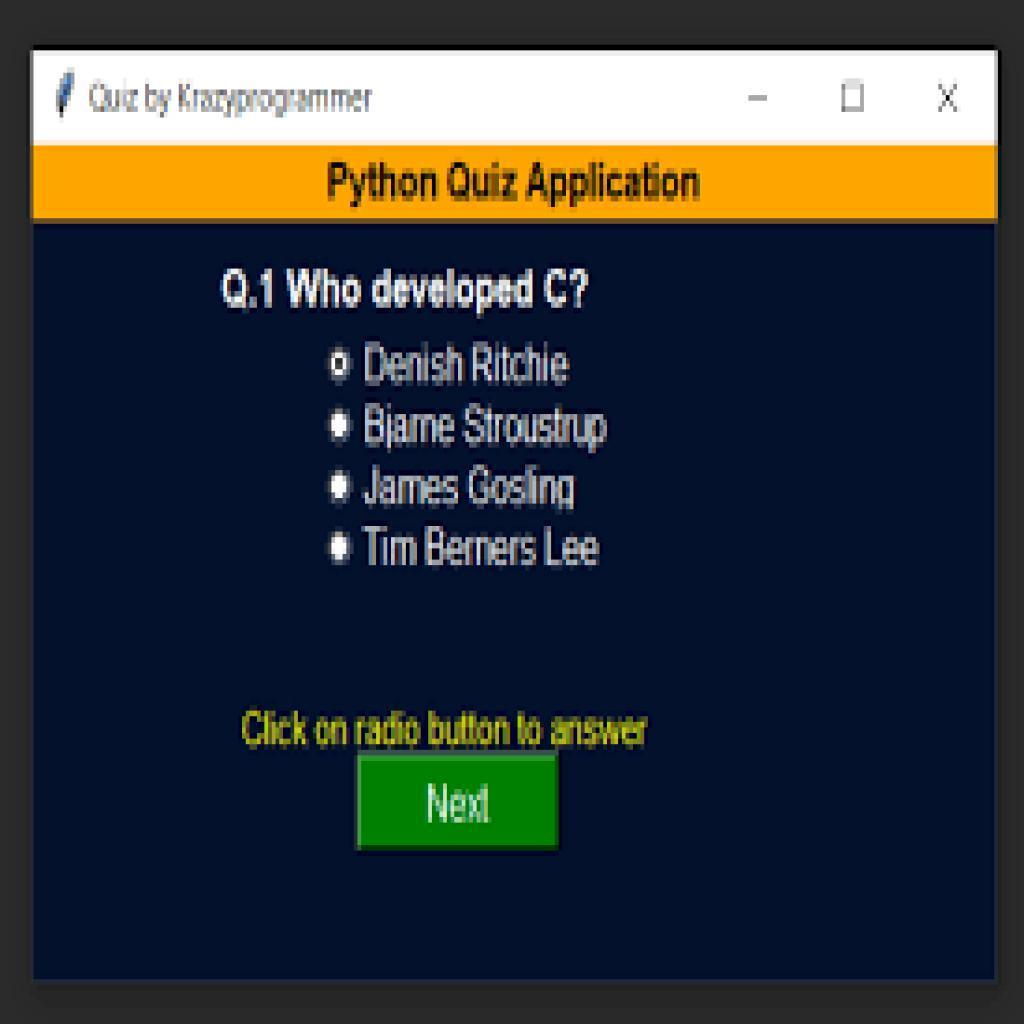button: (358, 756, 557, 844)
label: (245, 702, 658, 756), (224, 262, 598, 318), (367, 402, 609, 456), (364, 523, 605, 572), (363, 340, 577, 389), (369, 466, 580, 515)
radio: (327, 347, 357, 387), (327, 531, 356, 570), (327, 470, 355, 506), (328, 407, 354, 444)
